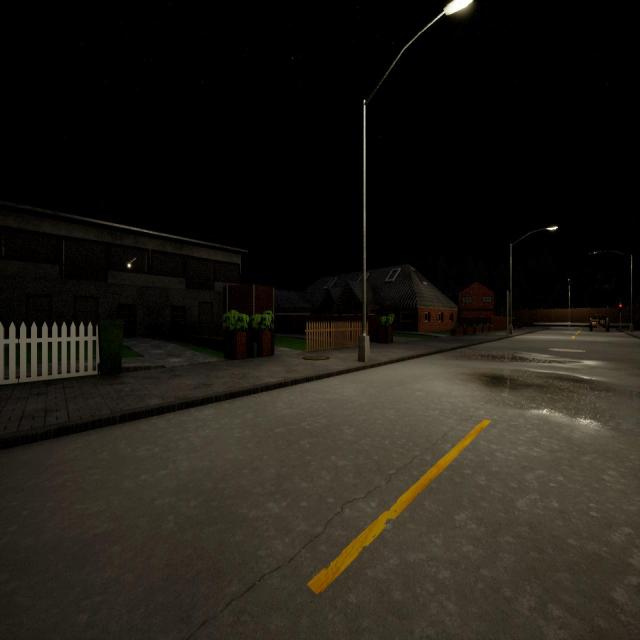Vehicle: (590, 312, 609, 333)
traffic_light: (508, 294, 511, 306), (619, 304, 622, 312)
